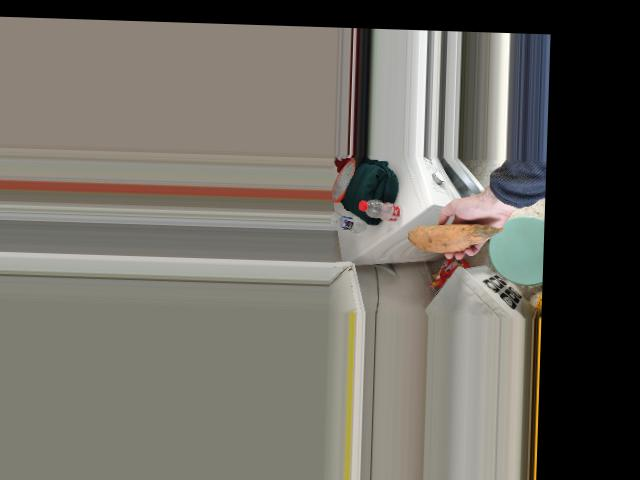sweet_potato: (416, 222, 496, 255)
